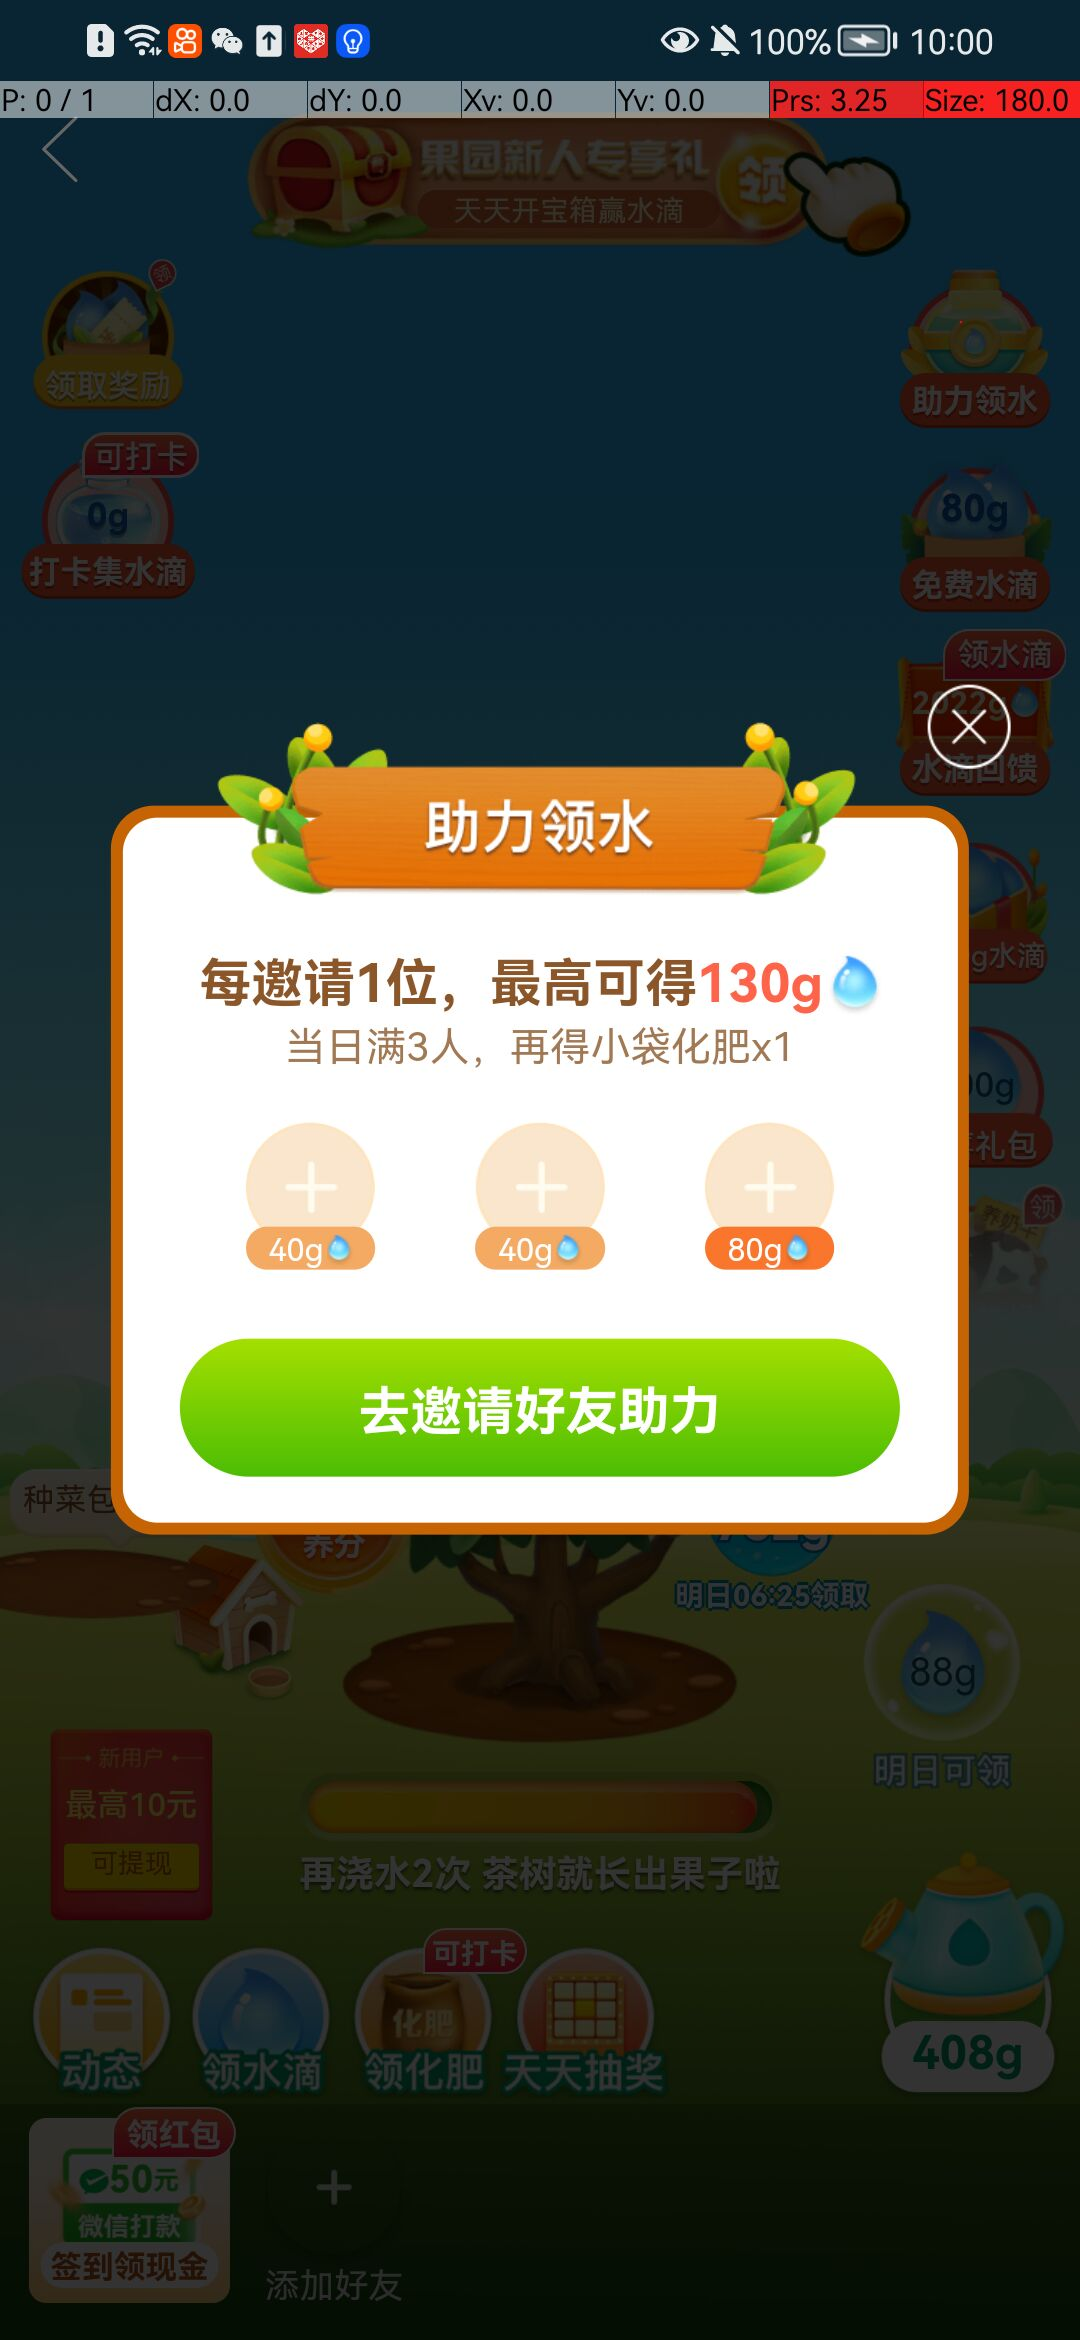popup: (929, 692, 1011, 775)
